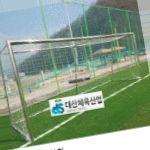goals: (2, 31, 145, 140)
